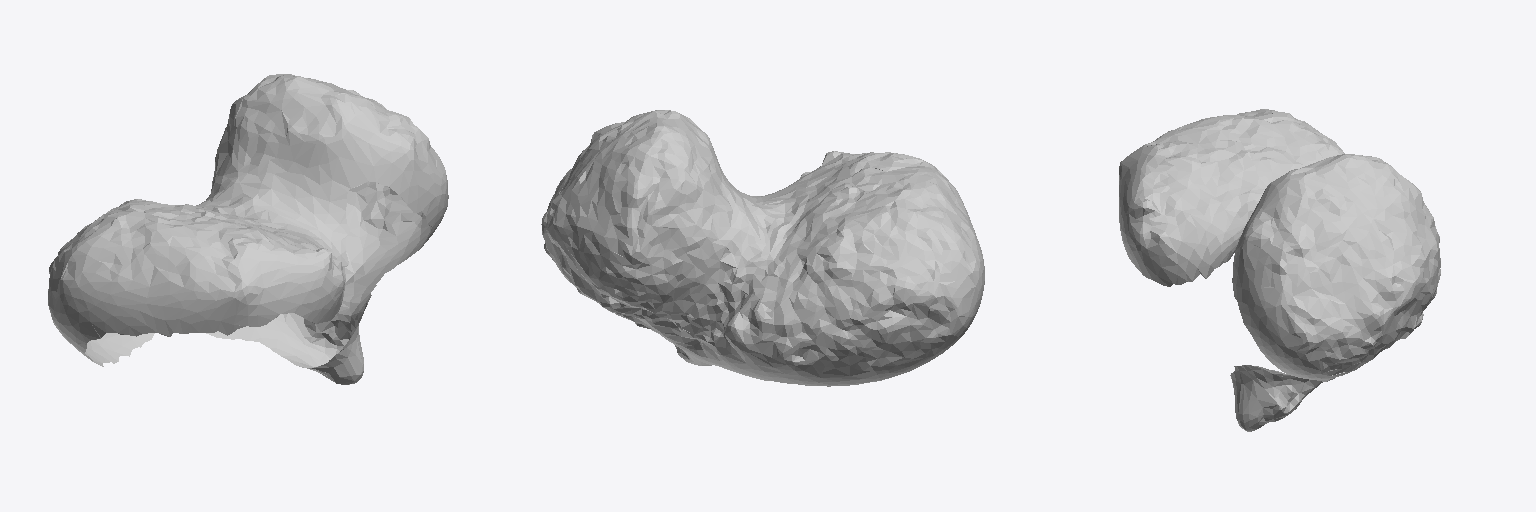
File: testmesh1.obj
3 renders of one model, left to right at view 1: azimuth 30°, elevation 25°; view 2: azimuth 150°, elevation 25°; view 3: azimuth 270°, elevation 25°, orthographic.
Size of the model in its own units: 0.1232 by 0.0792 by 0.0852.